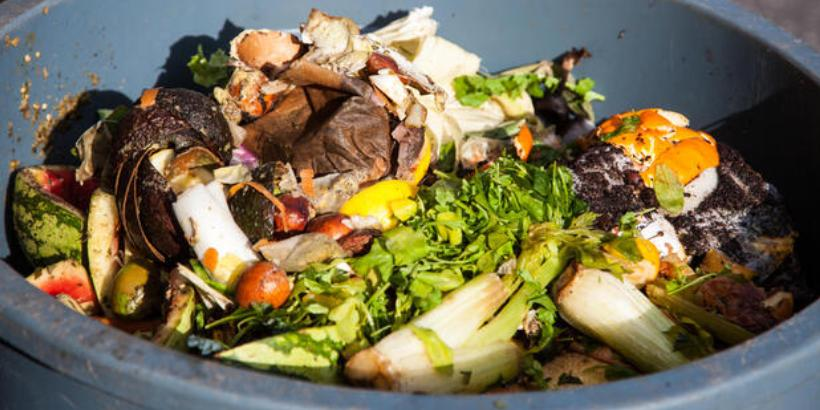organic: (441, 219, 595, 360), (108, 83, 235, 252), (244, 80, 399, 186), (10, 162, 115, 266), (594, 108, 718, 191), (386, 207, 490, 283), (281, 267, 377, 345), (208, 299, 294, 345), (452, 72, 543, 109), (544, 161, 578, 220), (187, 255, 234, 295), (564, 75, 607, 111)
